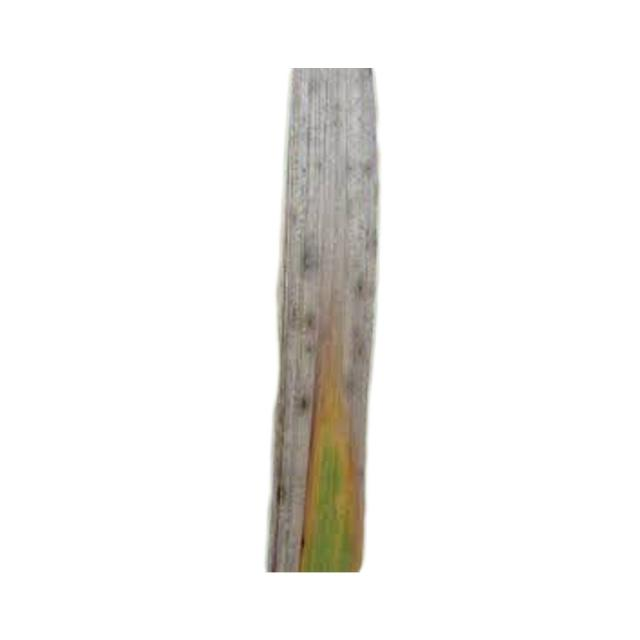Leaf scald: (245, 55, 602, 627)
